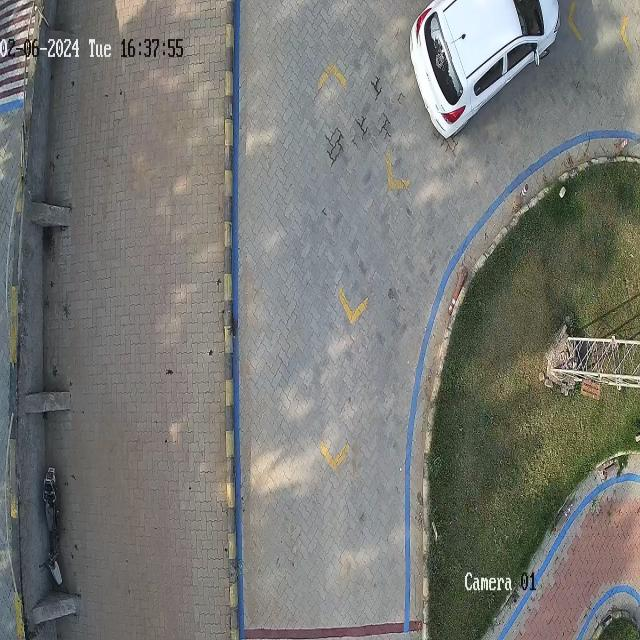car: (410, 0, 559, 138)
